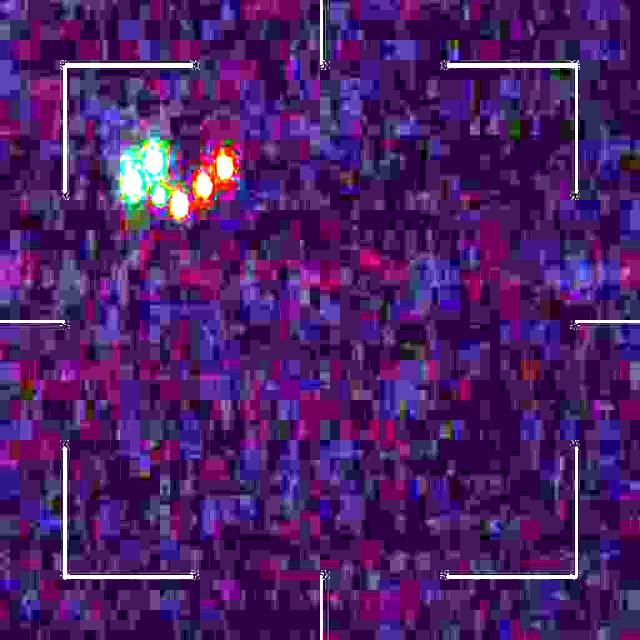bird: (125, 148, 230, 210)
